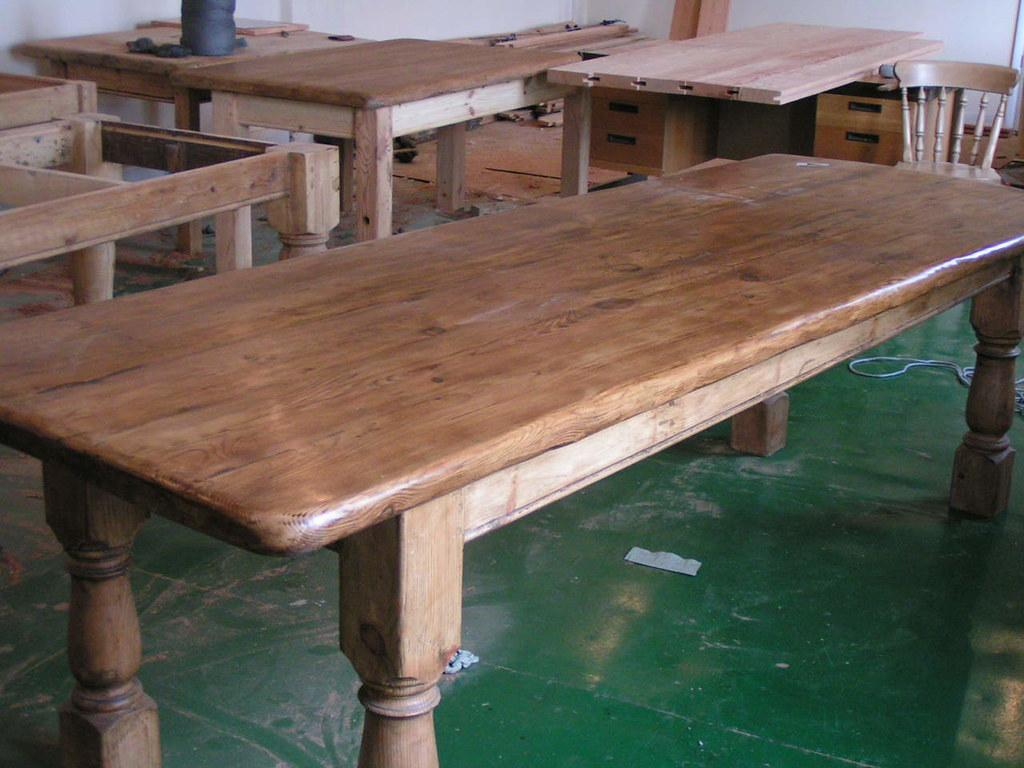table: (2, 151, 1023, 766), (170, 36, 587, 243), (12, 17, 376, 251), (547, 20, 945, 189)
